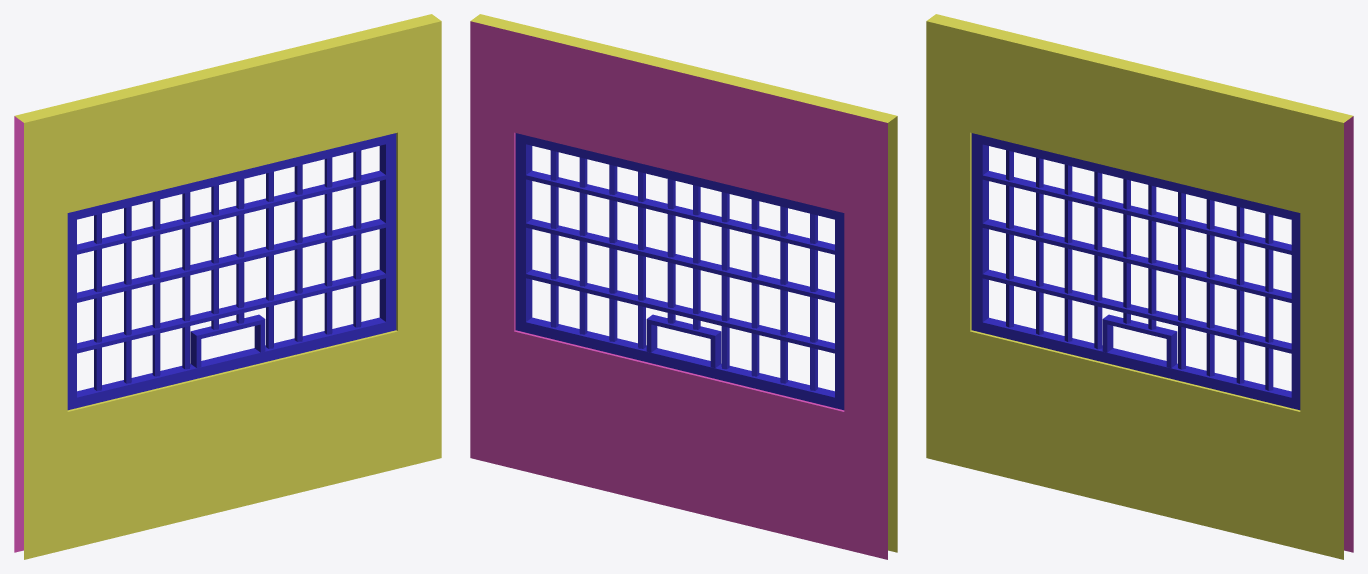
File: SM_wall3.fbx
The picture shows the model from 3 angles, left to right: view 1: azimuth 30°, elevation 25°; view 2: azimuth 150°, elevation 25°; view 3: azimuth 330°, elevation 25°; orthographic projection.
Visible parts, largest first — view 1: wall3; view 2: wall3; view 3: wall3.
Boxes of the visible parts, bbox=[...] form: wall3: bbox=[14, 14, 441, 559]; wall3: bbox=[470, 14, 897, 559]; wall3: bbox=[926, 14, 1353, 559].
Bounding box in the file's own units: 300 × 300 × 12.17.
